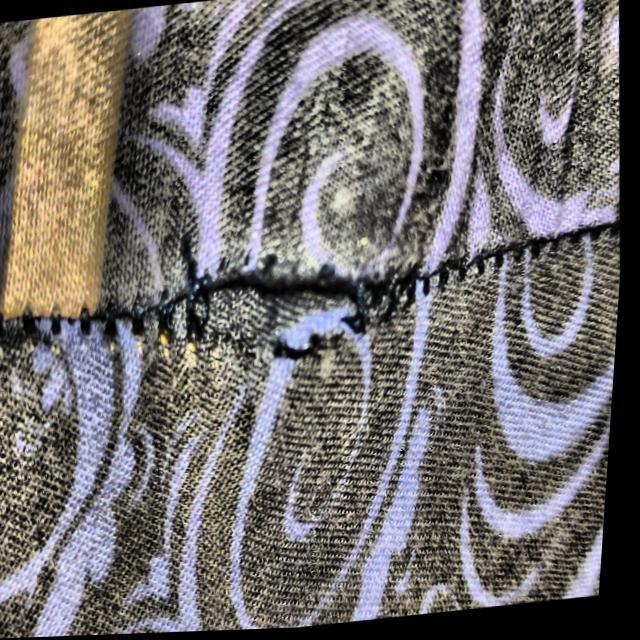seam: (110, 157, 474, 453)
